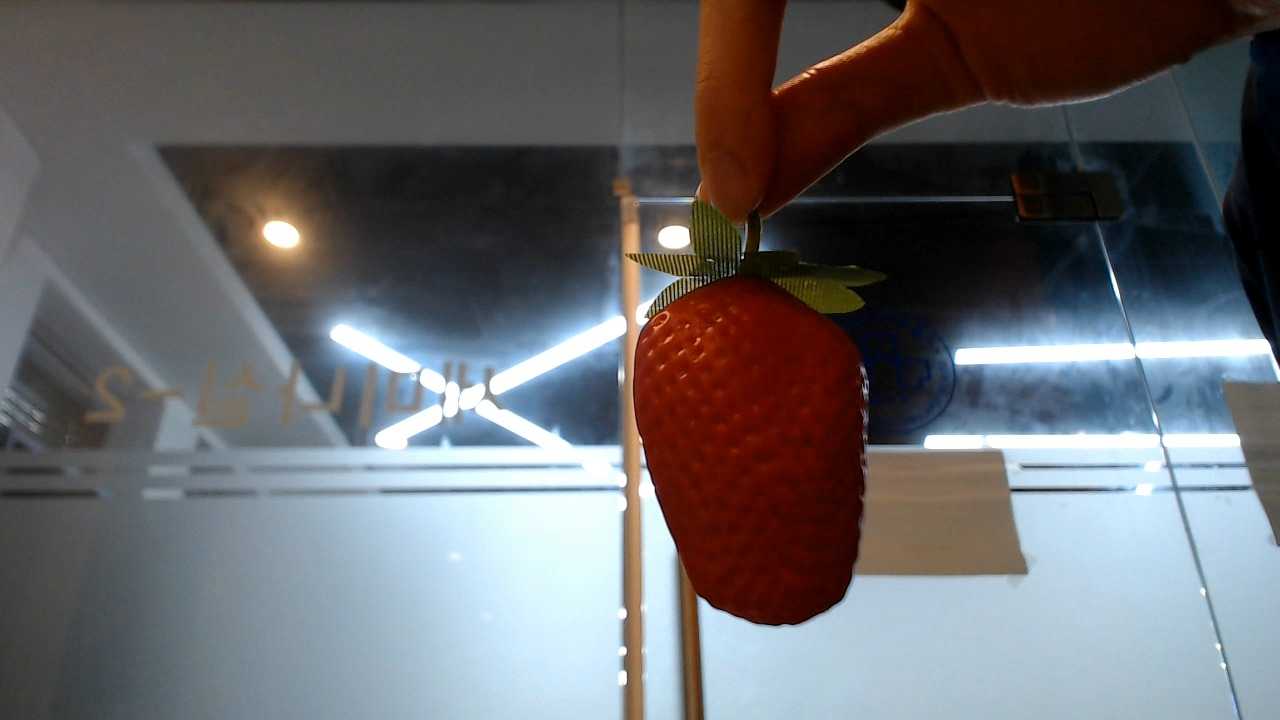strawberry: (633, 225, 867, 627)
